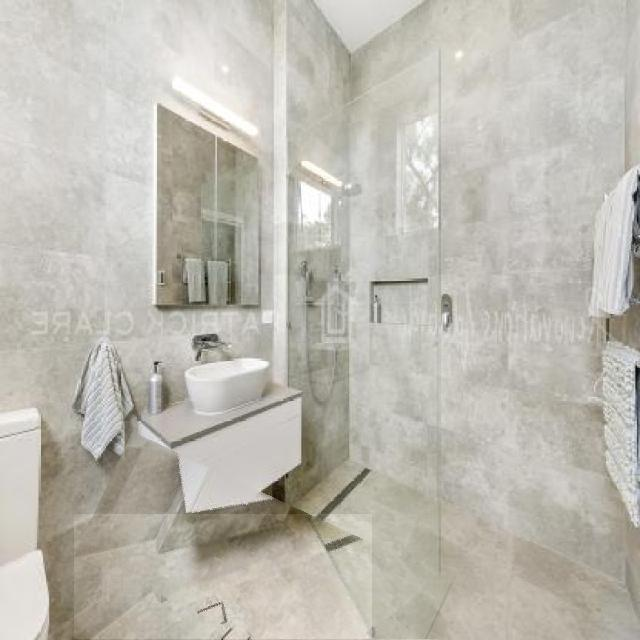floor: (74, 514, 372, 640)
